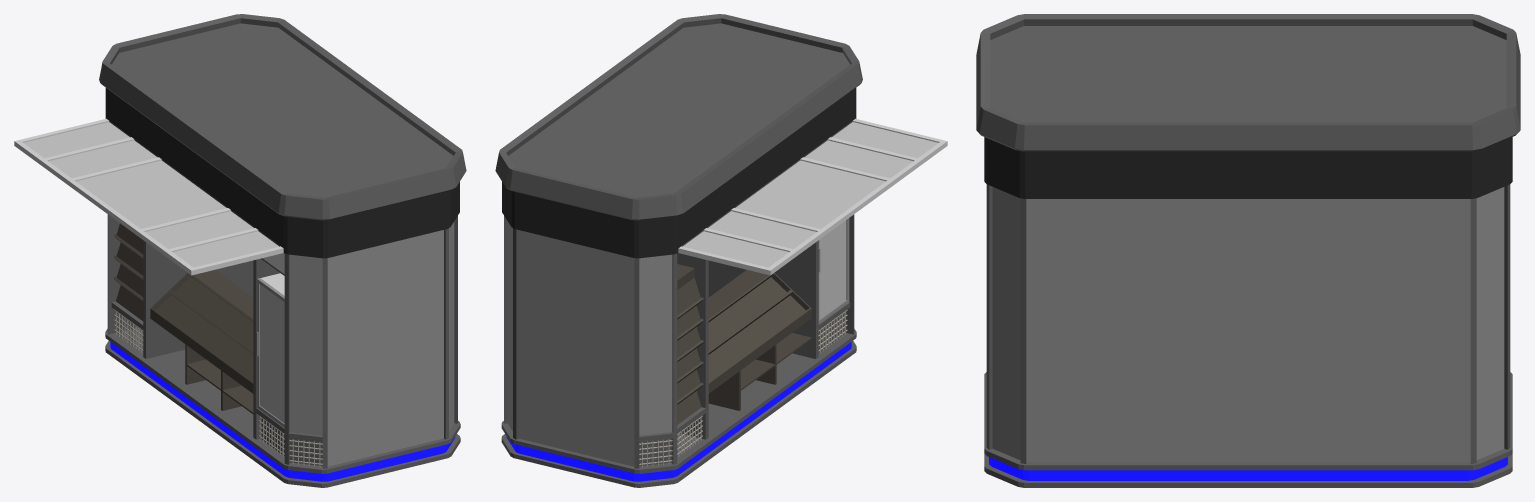
File: Newsstand_01.FBX
The picture shows the model from 3 angles, left to right: view 1: azimuth 30°, elevation 25°; view 2: azimuth 150°, elevation 25°; view 3: azimuth 270°, elevation 25°; orthographic projection. The views are drawn at different scales.
Visible parts, largest first — view 1: Newsstand_01_LOD0, Newsstand_01_FridgeDoor; view 2: Newsstand_01_LOD0, Newsstand_01_FridgeDoor; view 3: Newsstand_01_LOD0.
Part boxes in pixels (x1,y1,x2,y2): Newsstand_01_LOD0: (14,14,466,487); Newsstand_01_FridgeDoor: (256,278,284,427); Newsstand_01_LOD0: (495,14,947,487); Newsstand_01_FridgeDoor: (818,218,849,323); Newsstand_01_LOD0: (976,14,1520,487).
Size of what is drawn, in the model's own units: 171 by 173 by 234.
